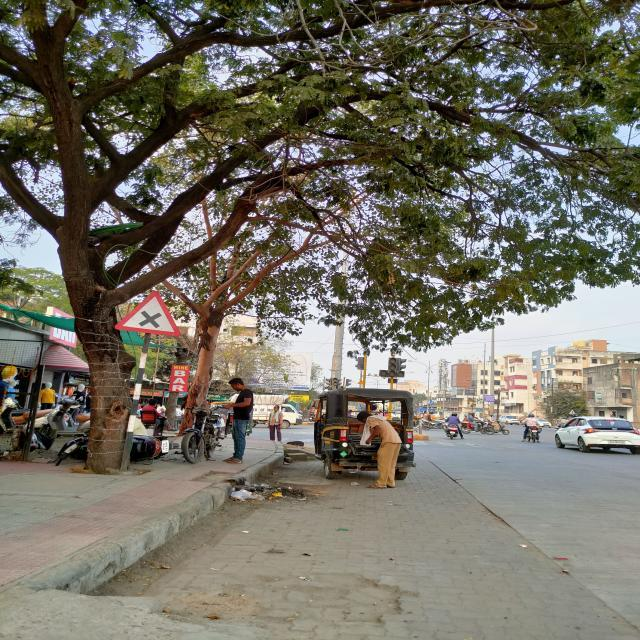cross road: (113, 289, 186, 341)
